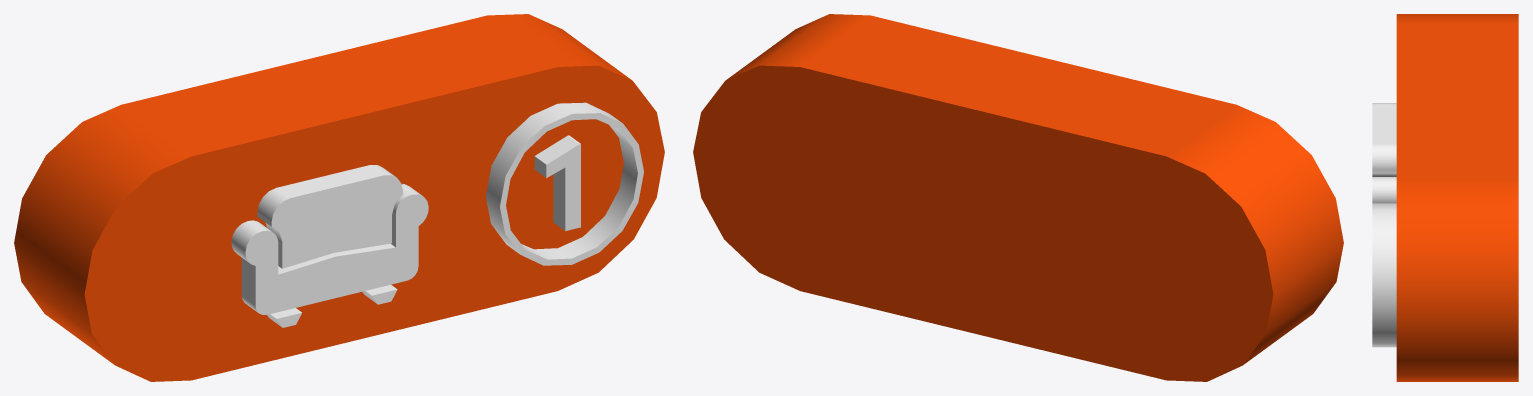
The model's file is Couch_1.fbx.
3 renders of one model, left to right at view 1: azimuth 30°, elevation 25°; view 2: azimuth 150°, elevation 25°; view 3: azimuth 270°, elevation 25°, orthographic. The views are drawn at different scales.
Visible parts, largest first — view 1: Orange, Object_11, Object_10, Object_1, Object_12, Object_6, Object_7; view 2: Orange; view 3: Orange, Object_1, Object_10, Object_6, Object_11.
Boxes of the visible parts, x1,y1,x2,y2 form: Orange: (14, 14, 664, 381); Object_11: (231, 184, 428, 314); Object_10: (257, 165, 402, 268); Object_1: (485, 102, 643, 265); Object_12: (534, 135, 580, 230); Object_6: (257, 165, 402, 268); Object_7: (241, 212, 395, 305); Orange: (693, 14, 1343, 381); Orange: (1396, 14, 1518, 381); Object_1: (1372, 203, 1396, 347); Object_10: (1372, 103, 1396, 176); Object_6: (1372, 104, 1396, 176); Object_11: (1372, 177, 1396, 203).
Size of the model in its own units: 4.75 by 1.2 by 1.75.
